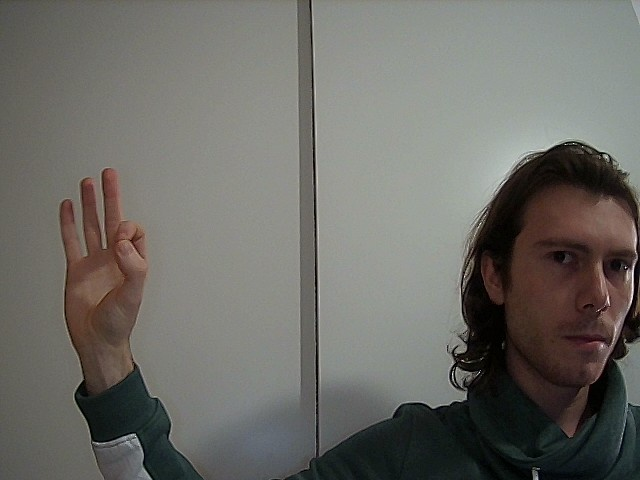f: (33, 152, 199, 356)
